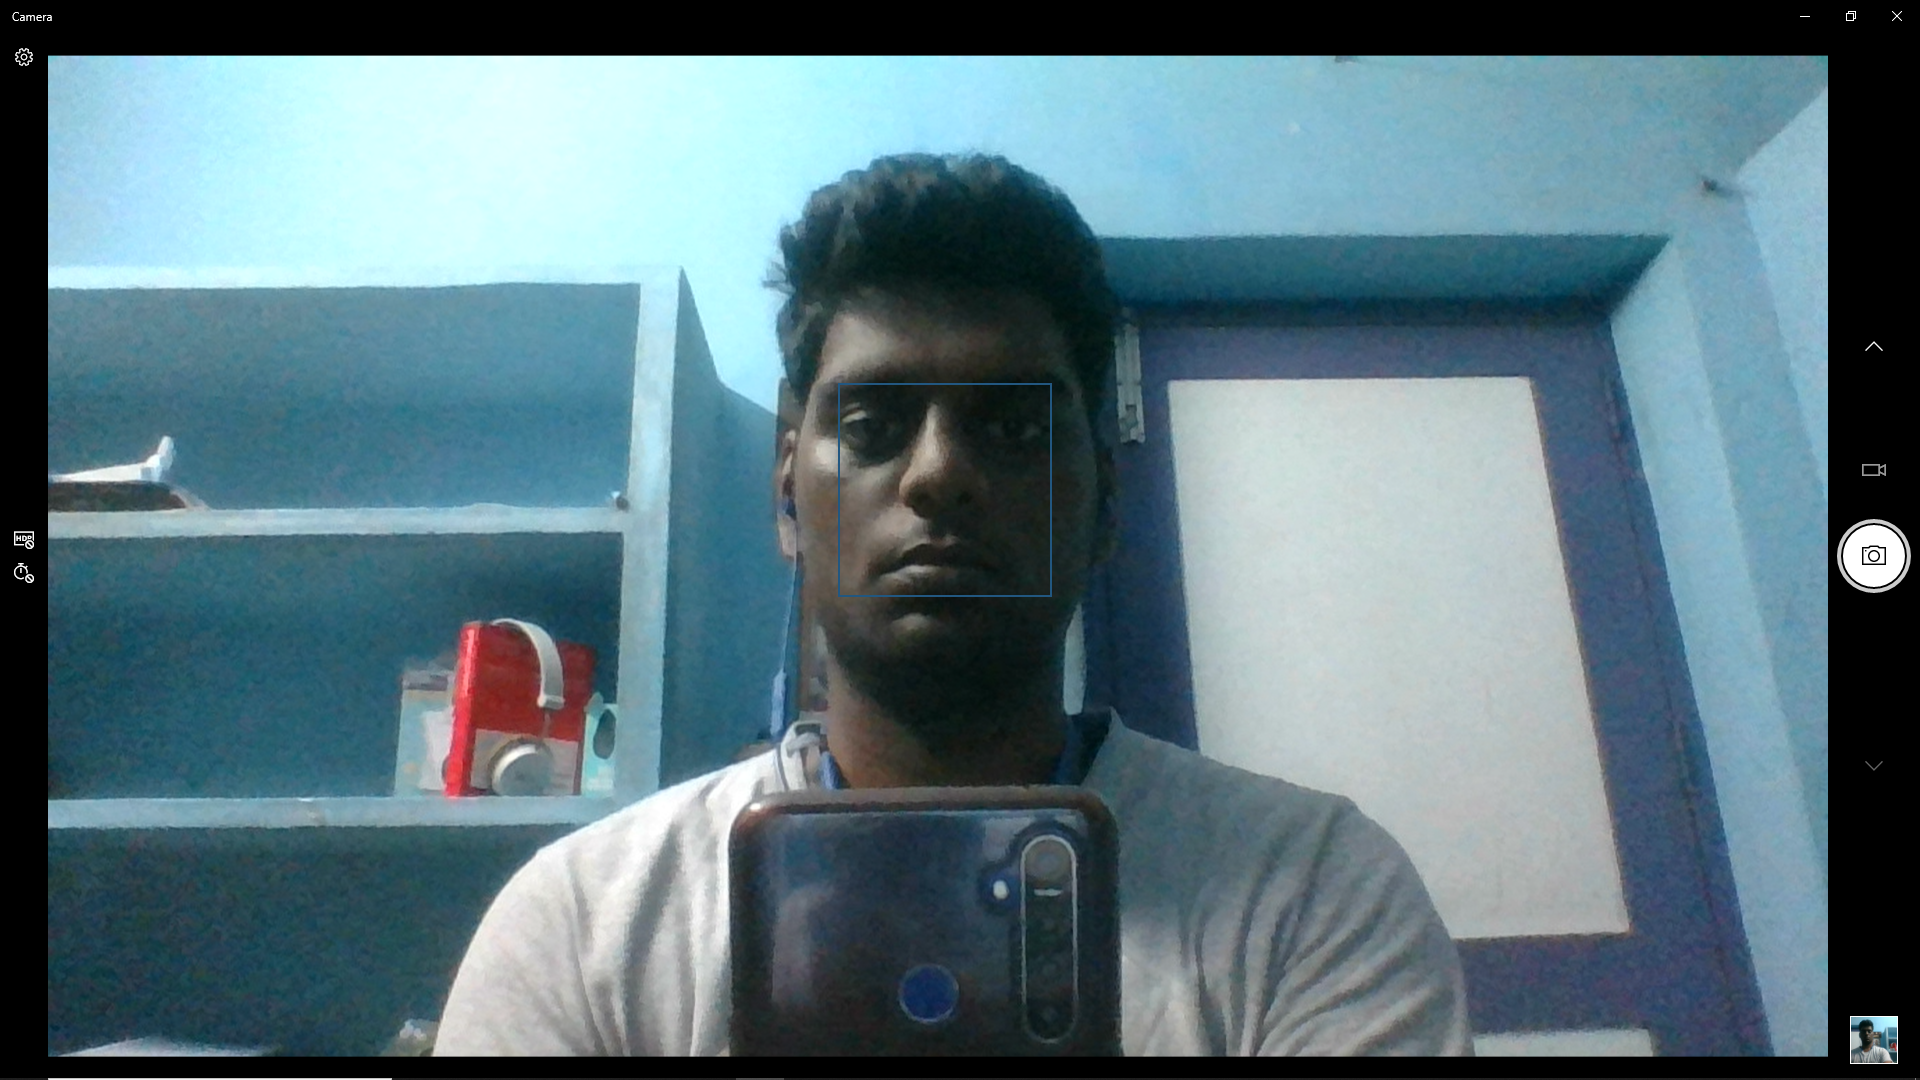mobile phone: (696, 771, 1156, 1072)
person: (415, 124, 1479, 1071)
